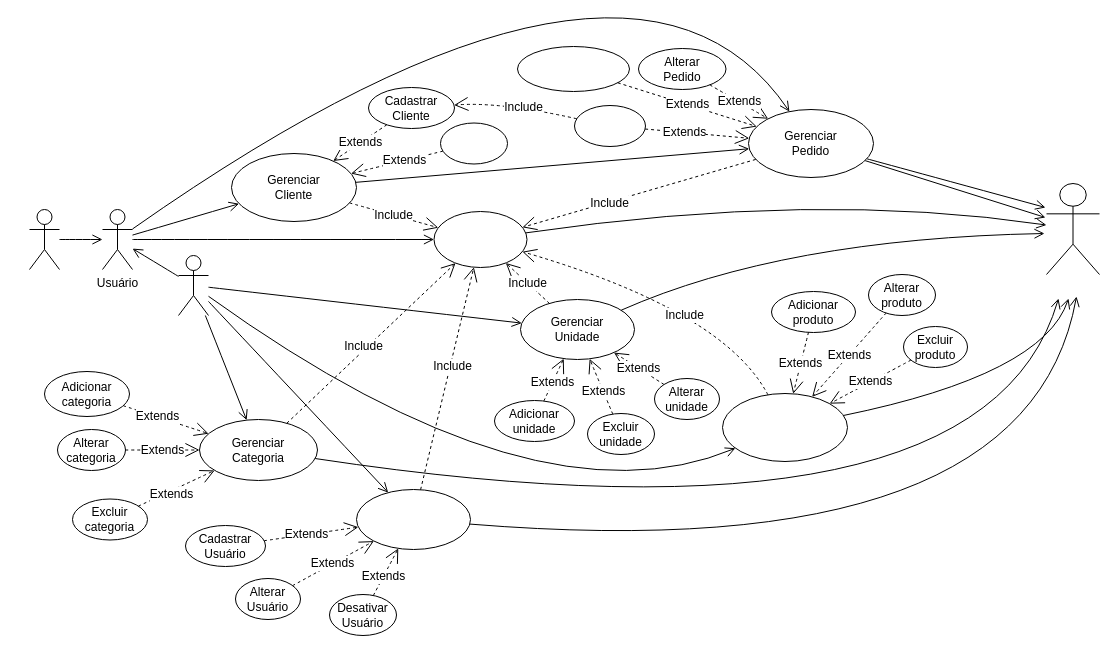
This 1117x653 diagram has some shape labels left out. The shapes that lost their labels are listed below. From the top down, each one's box as (x1, y1, x2, y2) in pixels, then its label:
(516, 46, 630, 92): Atualizar estado de Pedido
(440, 122, 508, 164): Alterar Cliente
(574, 104, 646, 146): Cadastrar Pedido
(28, 208, 60, 270): Atendente
(433, 210, 527, 268): Login
(1046, 182, 1100, 274): SGBD
(178, 254, 208, 316): Administrador
(722, 392, 848, 462): Gerenciar Produto
(356, 488, 470, 550): Gerenciar Usuá rio
